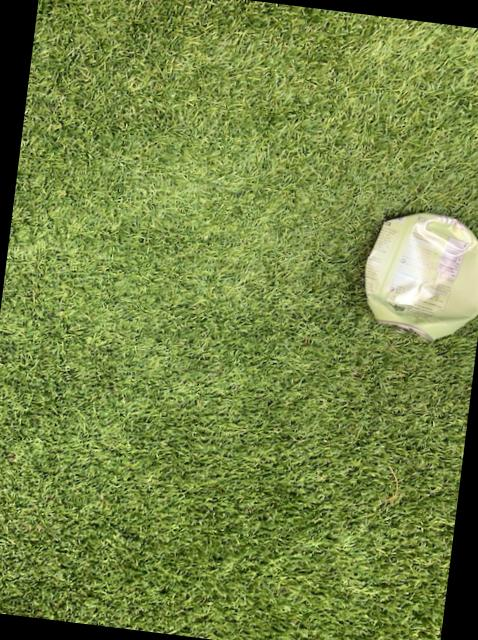metal: (363, 213, 478, 341)
